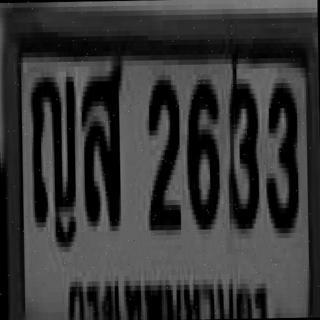A13: (23, 66, 82, 260)
A40: (75, 58, 126, 249)
N02: (136, 63, 186, 249)
N03: (262, 56, 301, 258), (226, 59, 264, 244)
N06: (182, 58, 224, 241)
P04: (60, 262, 282, 320)
